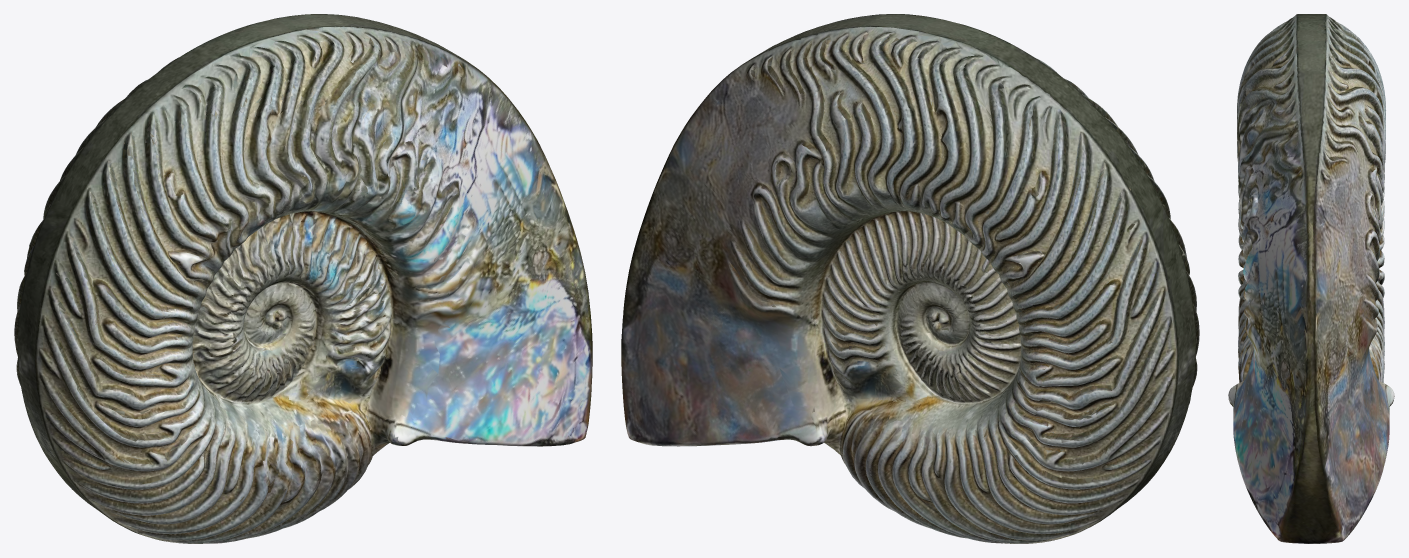
Rendered from ammonite.glb.
3 views of the same model, side by side, from view 1: azimuth 30°, elevation 25°; view 2: azimuth 150°, elevation 25°; view 3: azimuth 270°, elevation 25° (orthographic). The views are drawn at different scales.
Visible parts, largest first — view 1: ammonite; view 2: ammonite; view 3: ammonite.
Boxes of the visible parts, left/top/right/bottom form: ammonite: left=14, top=14, right=592, bottom=543; ammonite: left=621, top=14, right=1199, bottom=543; ammonite: left=1228, top=14, right=1394, bottom=543.
Bounding box in the file's own units: 1 × 0.8466 × 0.3115.
1 material, 1 textured.
